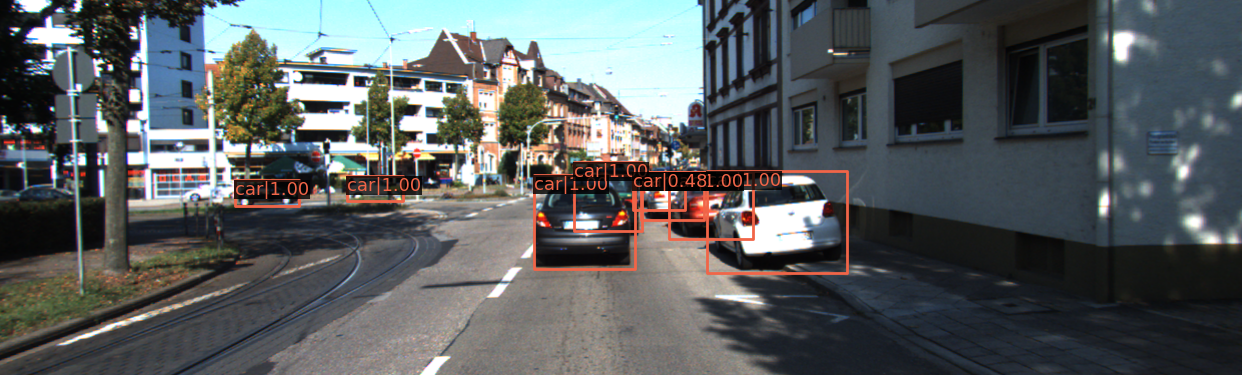car: (712, 172, 845, 276), (534, 176, 632, 269), (667, 177, 753, 243), (569, 164, 639, 238), (644, 174, 701, 223), (240, 184, 302, 209), (349, 178, 405, 202)
